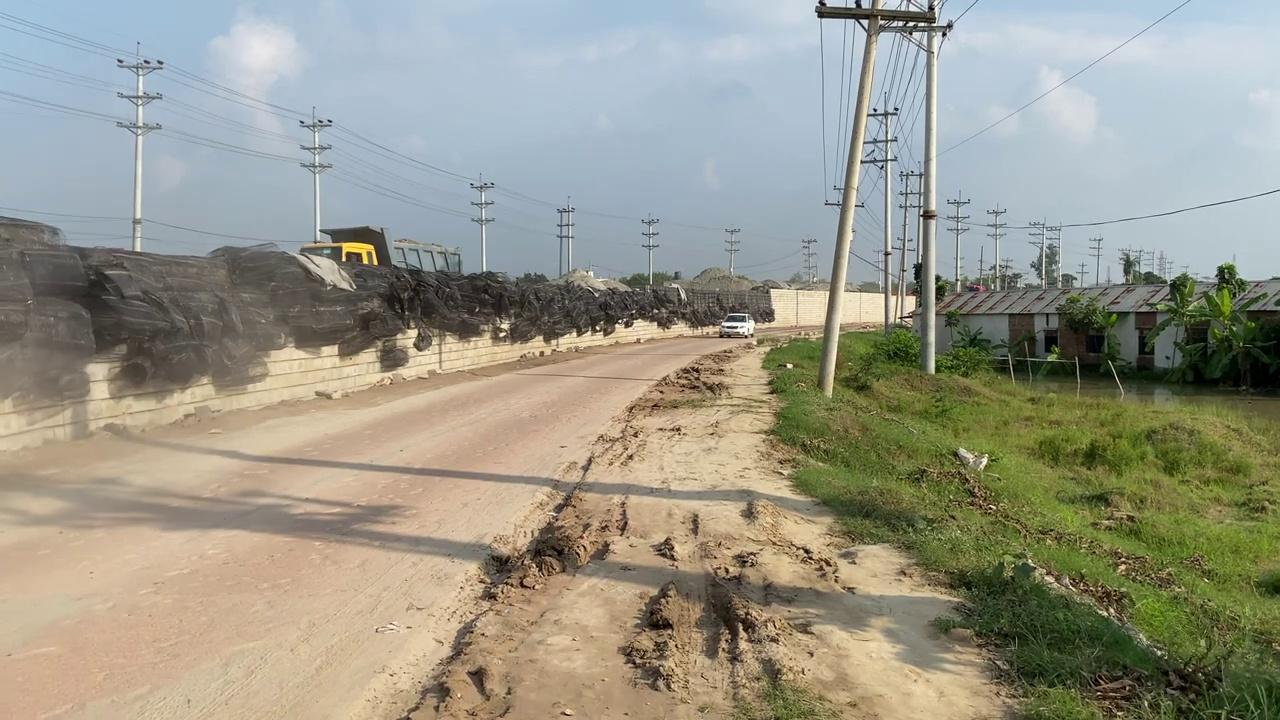Car: (718, 312, 755, 338)
Pole: (814, 0, 936, 398), (917, 22, 941, 374)
Rickshaw: (399, 328, 1016, 718)
Traffic-sign: (1143, 260, 1277, 389)
Tree: (0, 216, 209, 400), (298, 224, 462, 274)
Upstairs: (0, 215, 774, 404)
